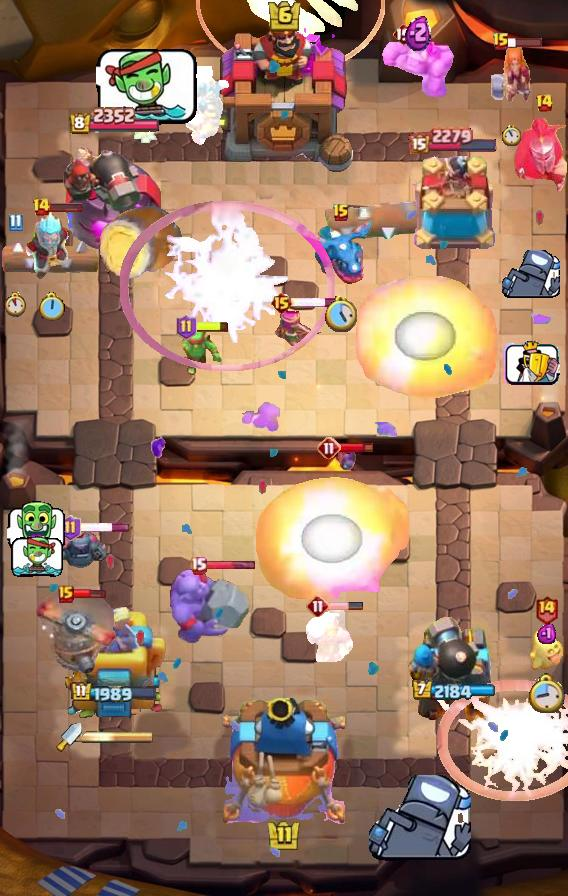archer-queen: (165, 568, 253, 648)
bar: (60, 607, 168, 731)
barbarian-barrel: (334, 444, 360, 472)
barbarian-evolution: (120, 200, 335, 372), (437, 679, 568, 801)
bat-evolution: (529, 627, 563, 671)
battle-ram: (52, 531, 112, 571)
cannon: (272, 307, 322, 353)
dark-prince: (28, 592, 122, 674)
dirt: (98, 204, 184, 282)
electro-spirit: (405, 13, 431, 50), (537, 622, 556, 644)
elixir: (528, 673, 565, 713), (325, 296, 357, 332), (38, 293, 65, 323), (3, 292, 27, 317), (502, 126, 521, 147)
emote: (291, 297, 344, 308), (78, 523, 131, 534), (204, 560, 256, 571), (339, 441, 374, 455), (194, 319, 230, 332), (507, 36, 543, 48), (48, 201, 84, 213), (73, 588, 108, 600), (328, 601, 364, 611)
giant-snowball: (179, 328, 223, 376)
graveyard: (306, 217, 376, 285)
hog-rider: (487, 43, 535, 105)
ice-wizard: (195, 0, 384, 74)
king-tower: (211, 7, 357, 181), (223, 698, 345, 826)
king-tower-bar: (82, 730, 154, 744)
mighty-miner: (304, 610, 358, 664)
mini-pekka: (177, 66, 233, 150)
minion: (322, 196, 448, 246), (0, 237, 100, 279)
mortar: (19, 210, 85, 282)
queen-tower: (407, 156, 499, 256)
selected: (67, 108, 160, 137), (409, 126, 500, 154), (70, 681, 158, 705), (411, 680, 495, 702)
skeleton: (369, 776, 471, 865), (96, 44, 198, 126), (6, 501, 65, 551), (502, 250, 560, 300), (502, 342, 560, 386), (9, 536, 62, 578)
text: (534, 595, 559, 626), (317, 436, 341, 460), (306, 594, 330, 618), (271, 291, 294, 315), (176, 314, 197, 340), (59, 515, 80, 541), (392, 22, 414, 46), (535, 93, 554, 113), (33, 197, 52, 217), (492, 32, 510, 52), (332, 203, 350, 223), (190, 556, 207, 575), (58, 585, 74, 603), (9, 213, 23, 231)
tower-bar: (63, 136, 165, 256), (403, 615, 503, 731)
valkyrie: (348, 276, 504, 398), (255, 477, 411, 599)
valkyrie-evolution: (380, 39, 455, 99)
wall-breaker-evolution: (512, 118, 568, 198)
